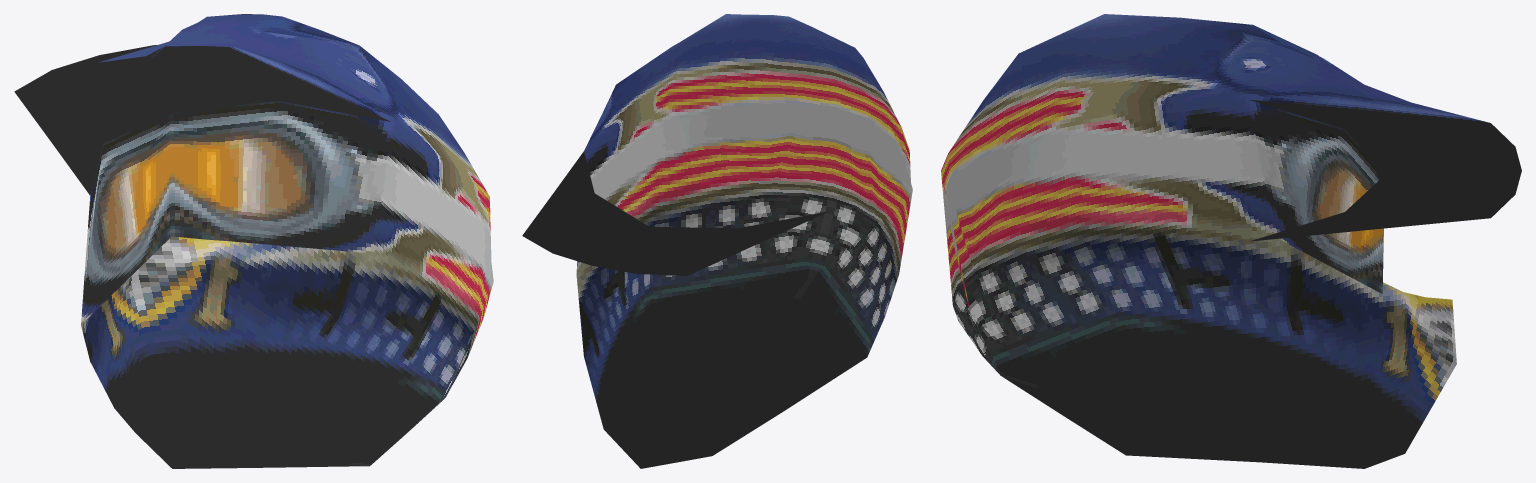
File: ps2_save-icons_jeremymcgrathsupercrossworld.glb
The picture shows the model from 3 angles, left to right: view 1: azimuth 30°, elevation 25°; view 2: azimuth 150°, elevation 25°; view 3: azimuth 270°, elevation 25°; orthographic projection. The views are drawn at different scales.
Visible parts, largest first — view 1: lowicon.ico; view 2: lowicon.ico; view 3: lowicon.ico.
Boxes of the visible parts, x1,y1,x2,y2 form: lowicon.ico: (14, 14, 493, 468); lowicon.ico: (522, 14, 912, 468); lowicon.ico: (941, 14, 1521, 468).
Bounding box in the file's own units: 1.49 × 1.96 × 2.44.
Materials: 1 (1 with a texture image).
